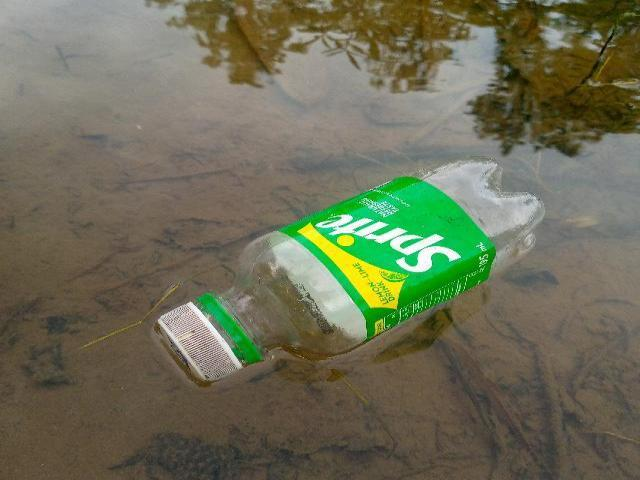Bottle: (149, 149, 557, 390)
